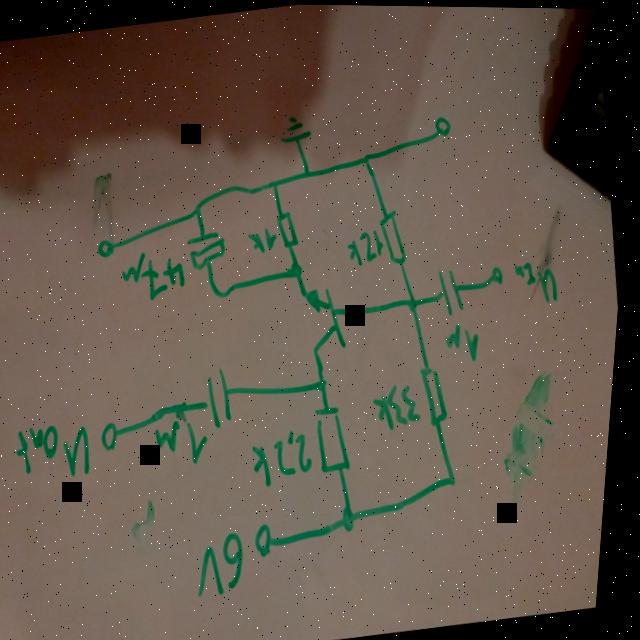capacitor: (199, 364, 250, 434), (428, 262, 481, 322), (186, 226, 237, 275)
ground: (276, 109, 319, 150)
junction: (340, 500, 371, 537), (289, 257, 314, 282), (407, 293, 429, 315), (191, 199, 212, 222), (212, 283, 234, 303), (361, 149, 380, 169), (320, 375, 339, 395), (451, 470, 468, 490), (271, 175, 288, 194), (303, 165, 318, 183)
resistor: (315, 398, 367, 479), (419, 360, 462, 433), (379, 206, 421, 274), (277, 207, 309, 253)
terminal: (257, 519, 292, 562), (102, 416, 134, 457), (433, 109, 463, 142), (97, 232, 125, 264), (490, 261, 516, 292)
text: (16, 417, 105, 489), (251, 425, 329, 495), (196, 528, 263, 602), (121, 244, 197, 307), (157, 417, 222, 471), (371, 379, 434, 434), (515, 255, 569, 309), (444, 317, 491, 367), (347, 228, 392, 269), (245, 223, 288, 258)
transistor: (289, 280, 361, 363)
